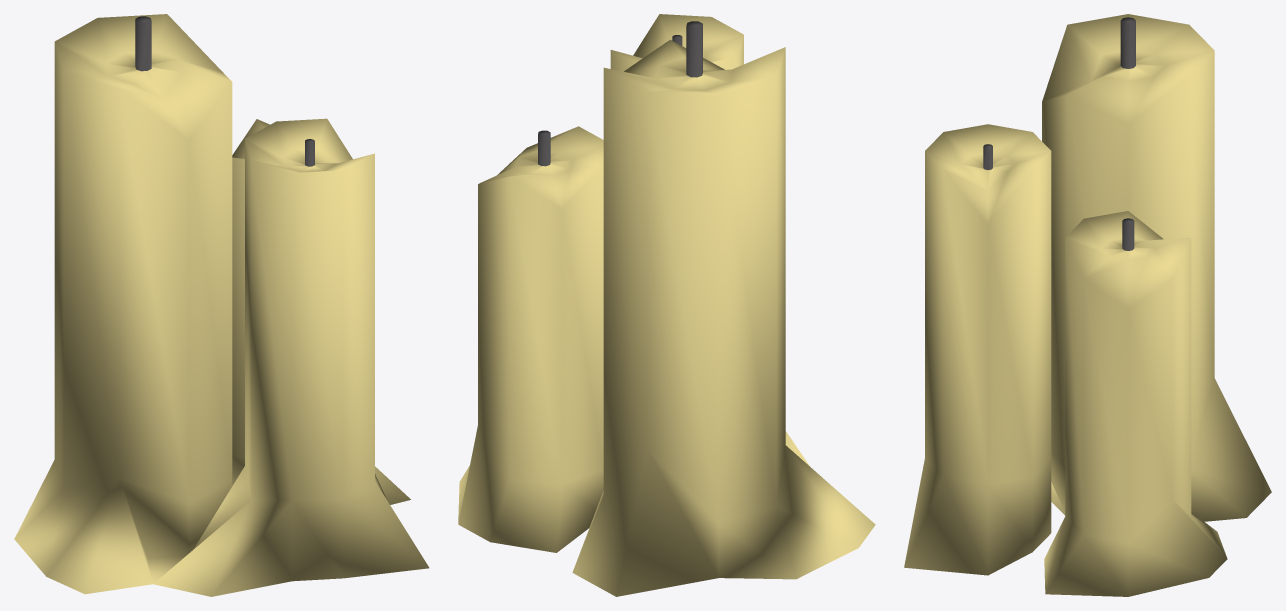
Rendered from MP_Candle.fbx.
3 views of the same model, side by side, from view 1: azimuth 30°, elevation 25°; view 2: azimuth 150°, elevation 25°; view 3: azimuth 270°, elevation 25° (orthographic). The views are drawn at different scales.
Visible parts, largest first — view 1: Candles; view 2: Candles; view 3: Candles.
Boxes of the visible parts, x1,y1,x2,y2 form: Candles: (14, 14, 429, 596); Candles: (458, 14, 875, 596); Candles: (904, 14, 1271, 596).
Size of the model in its own units: 43.98 by 58.99 by 41.71.
